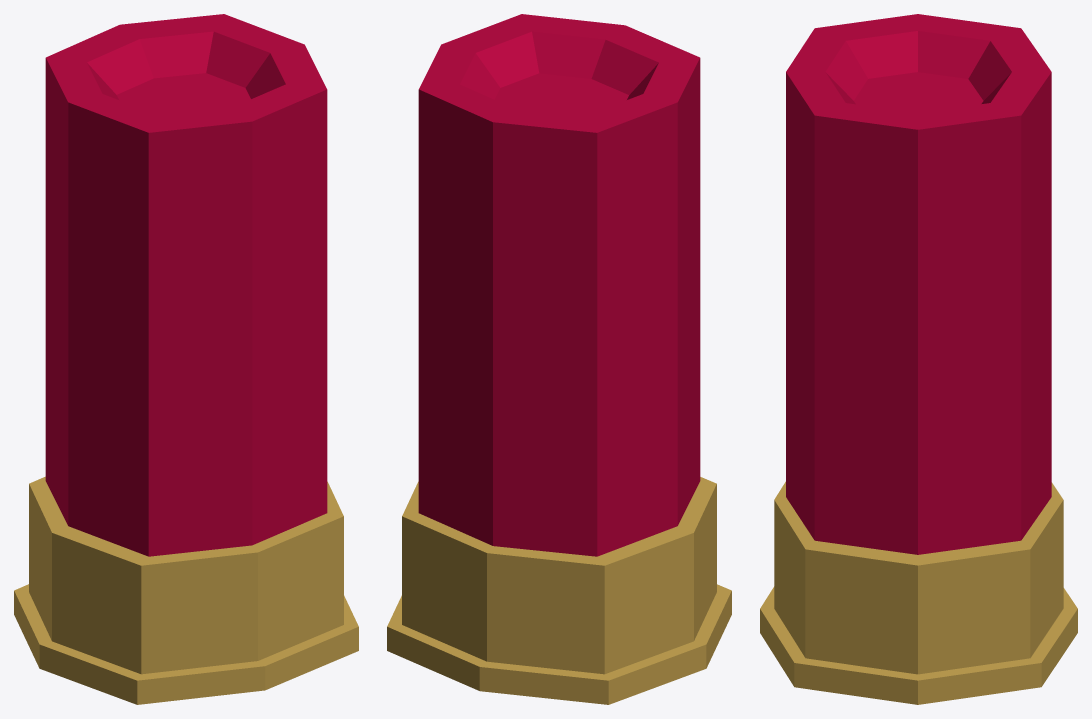
File: gunshotbullet.fbx
The picture shows the model from 3 angles, left to right: view 1: azimuth 30°, elevation 25°; view 2: azimuth 150°, elevation 25°; view 3: azimuth 270°, elevation 25°; orthographic projection.
Parts seen in each view (by area): view 1: Cube, Cube.002; view 2: Cube, Cube.002; view 3: Cube, Cube.002.
Boxes of the visible parts, x1=… form: Cube: x1=45, y1=14, x2=327, y2=556; Cube.002: x1=14, y1=476, x2=358, y2=704; Cube: x1=418, y1=14, x2=700, y2=556; Cube.002: x1=387, y1=477, x2=731, y2=704; Cube: x1=786, y1=14, x2=1051, y2=554; Cube.002: x1=760, y1=481, x2=1077, y2=704.
Bounding box in the file's own units: 330 × 599 × 308.
